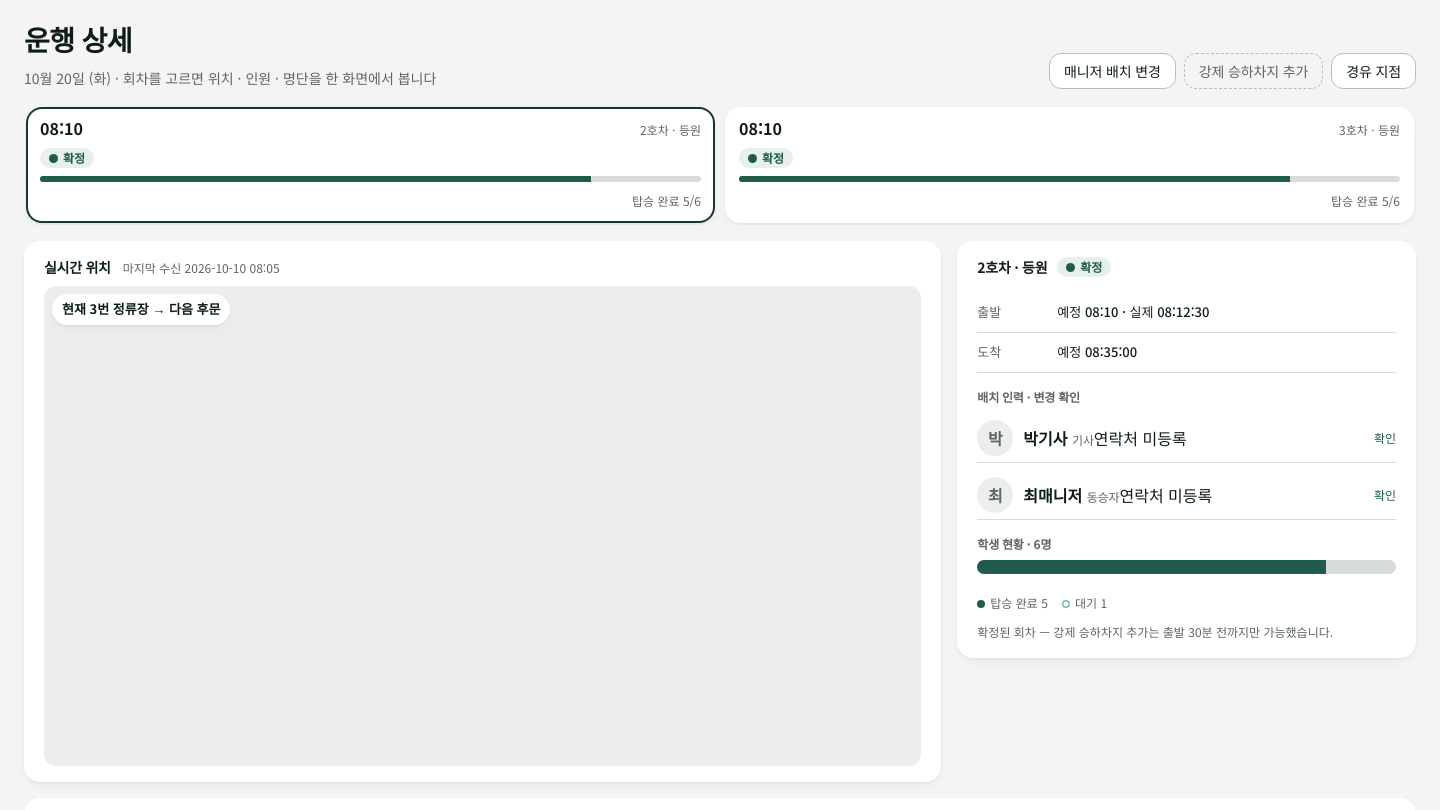
it: TodayRunPage — 경유 지점 진입(A-15) › 패널을 연 채 다른 회차로 바꾸면 패널이 닫혀 있다
Click the button "경유 지점".
click(1374, 71)  # box [1331,53,1416,89]
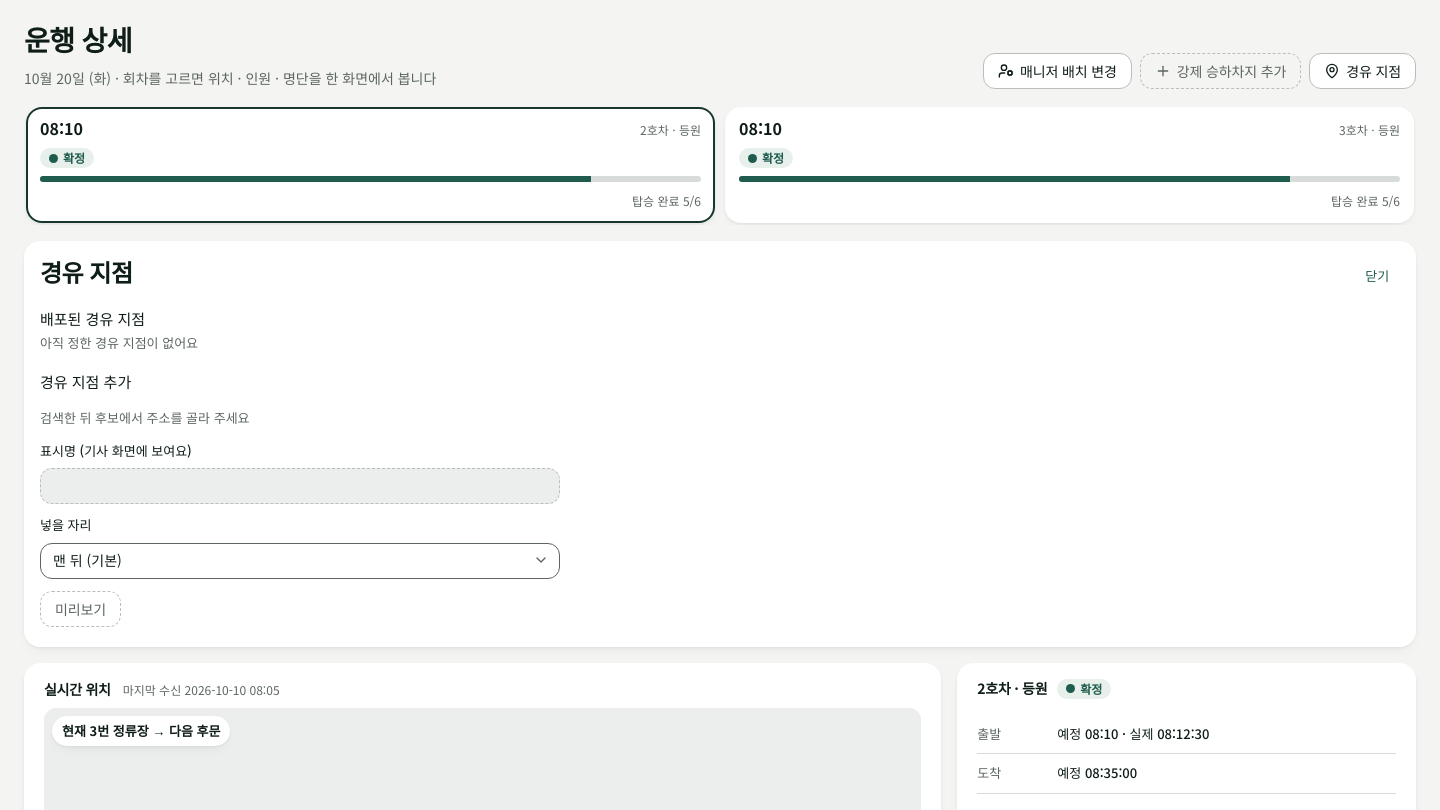
Result: the element "경유 지점" is shown at [40,261,1400,627]
